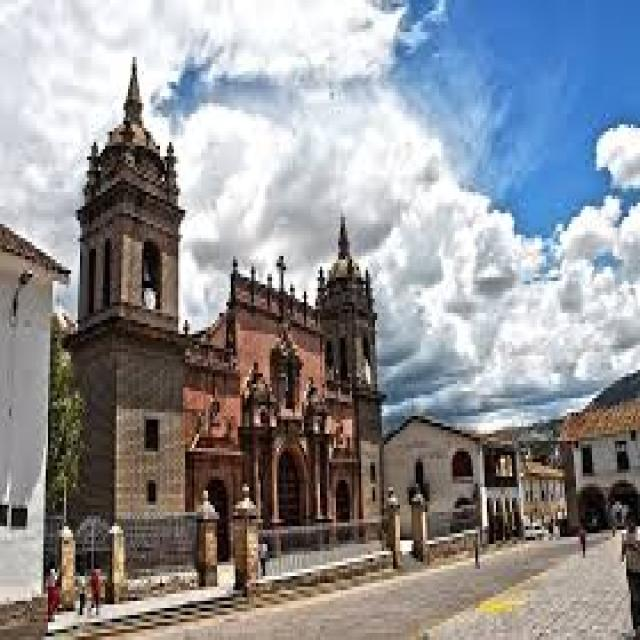6: (319, 222, 389, 547)
CAMPANARIO: (76, 142, 180, 325), (320, 268, 380, 389)
CUPULA: (0, 0, 610, 562)
PORTADA CENTRAL: (88, 92, 170, 185), (327, 247, 371, 282)
SIMETRIA COLONIAL: (262, 409, 315, 544)
colonial-architecture-: (47, 63, 404, 566), (69, 56, 199, 583)
